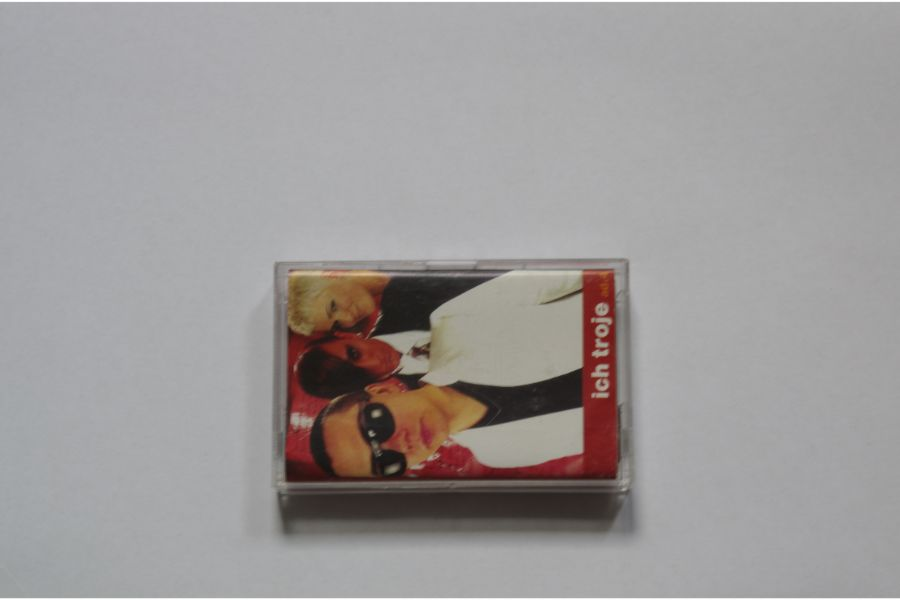album: (272, 258, 629, 496)
